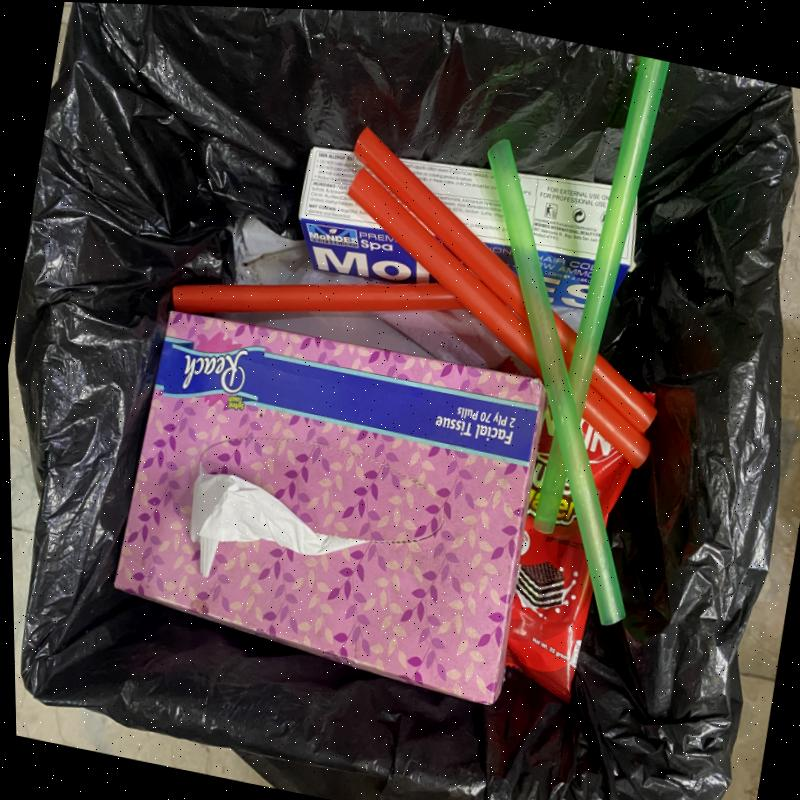cardboard: (114, 309, 546, 704), (298, 143, 641, 312)
food wrapper: (506, 379, 634, 706)
plastic straw: (351, 124, 658, 428), (349, 165, 653, 470), (489, 136, 626, 624), (531, 58, 668, 534), (172, 281, 461, 313)
